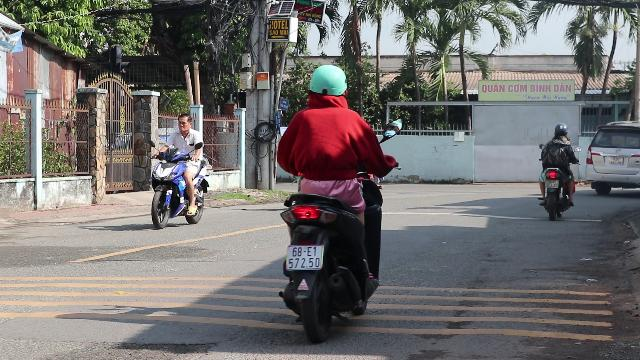helmet: (306, 64, 348, 108)
licenseplate: (287, 245, 321, 269)
motorcyclist: (270, 63, 398, 338), (146, 112, 210, 228)
nohelmet: (176, 112, 192, 134)
